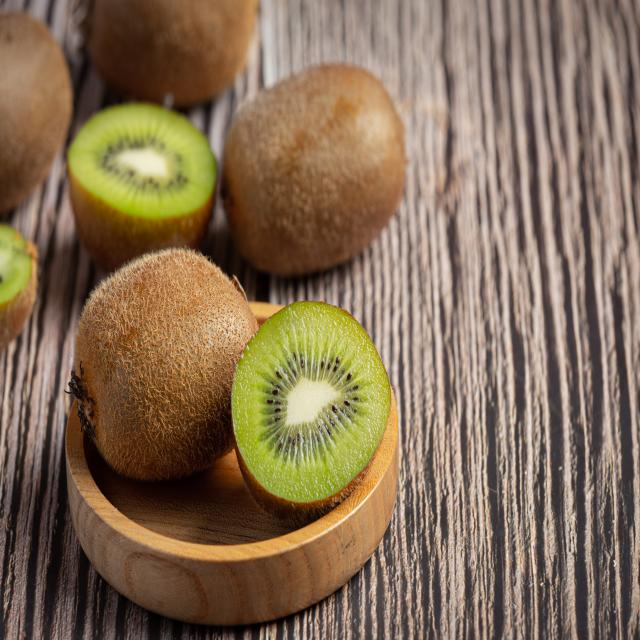kiwi: (72, 246, 244, 482), (227, 62, 407, 278), (230, 295, 391, 511), (70, 100, 220, 238), (3, 13, 75, 215)
